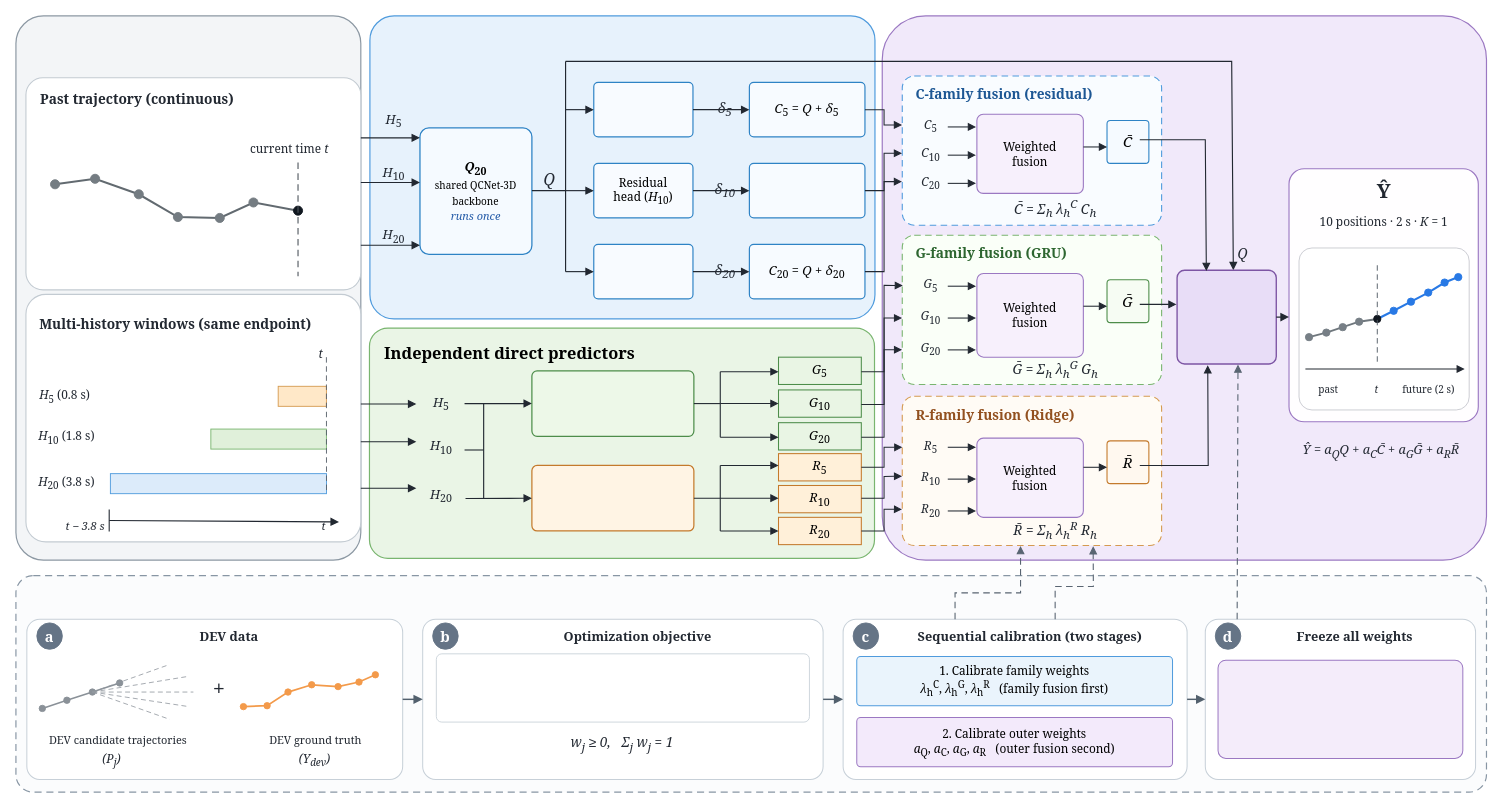
The diagram is 1503 pixels wide and 809 high, and some of its shapes have lost their labels. Here are the shapes that lost their labels. From the top down, the box of each, then its label:
(593, 81, 693, 137): Residual head ( H 5 )
(369, 15, 875, 319): ① Shared- Q residual branch
(748, 162, 865, 218): C 10 = Q + δ 10
(15, 15, 361, 560): History & multi-window input
(593, 243, 693, 299): Residual head ( H 20 )
(881, 15, 1487, 560): ② Fixed trajectory fusion
(1176, 269, 1277, 364): Outer fusion (fixed weights)
(531, 370, 694, 437): GRU predictors (independent)
(531, 464, 694, 531): Ridge predictors (independent)
(435, 653, 809, 722): w v * = arg min w∈Δₘ MacroADE DEV (Σ j w j P j )
(15, 575, 1487, 792): DEV calibration (offline)
(1217, 659, 1463, 759): Use calibrated fixed weights in inference (no optimization)
